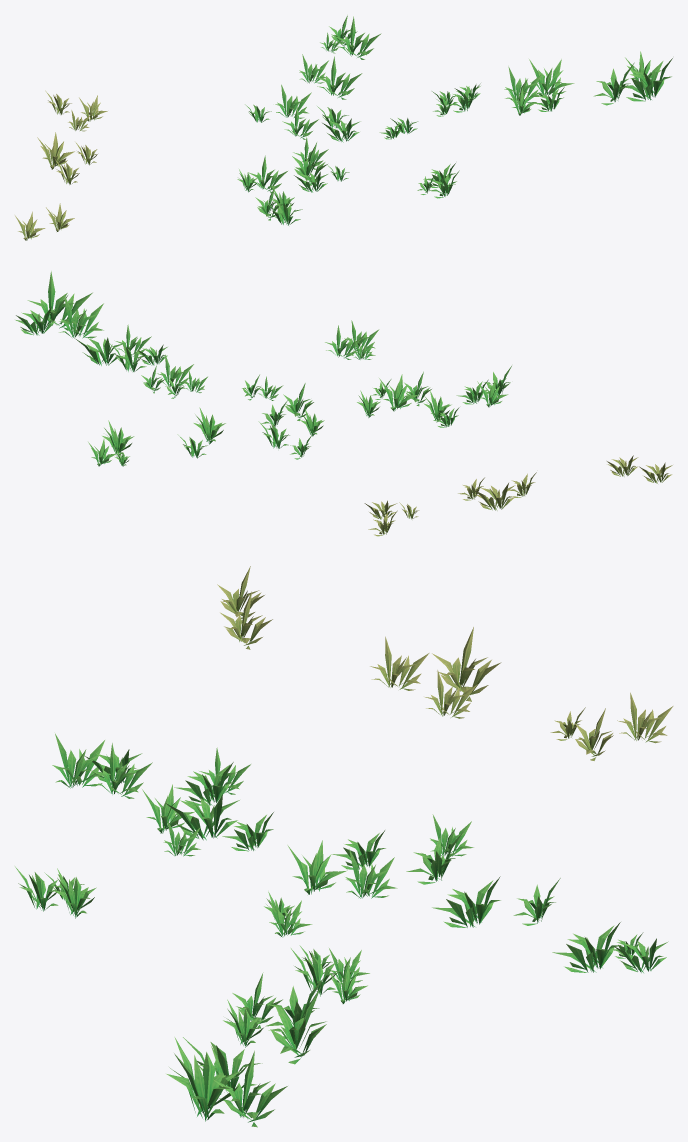
The model's file is area_07_12.fbx.
The picture shows the model from 3 angles, top to bottom: view 1: azimuth 30°, elevation 25°; view 2: azimuth 150°, elevation 25°; view 3: azimuth 270°, elevation 25°; orthographic projection. The views are drawn at different scales.
Visible parts, largest first — view 1: area_07_12; view 2: area_07_12; view 3: area_07_12.
Boxes of the visible parts, <box> form: area_07_12: <box>15,15,672,240</box>; area_07_12: <box>15,271,672,536</box>; area_07_12: <box>15,566,673,1127</box>.
Size of the model in its own units: 24.34 by 1.64 by 12.82.
